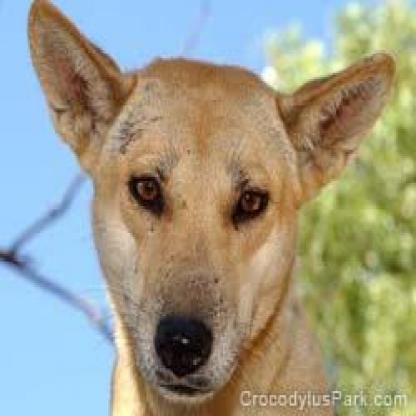dingo: (25, 0, 396, 412)
